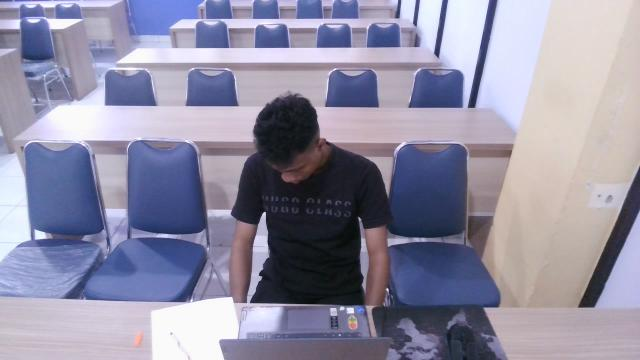Head_Down_Extreme: (224, 82, 390, 277)
